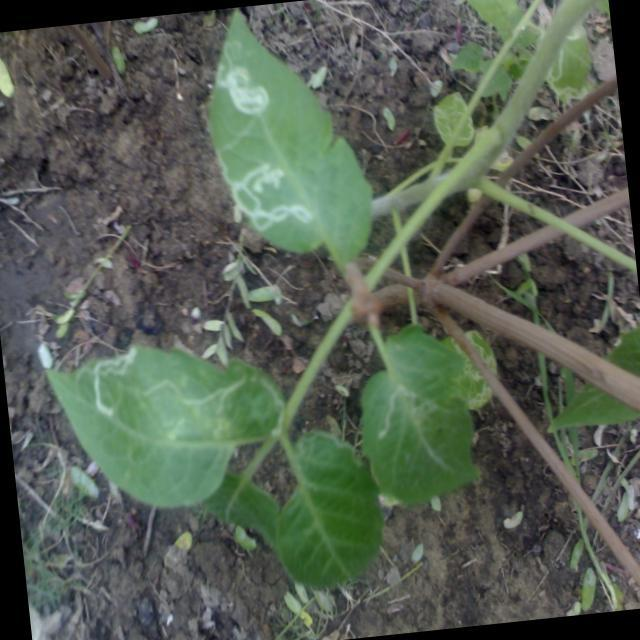Tomato target spot leaf: (206, 6, 375, 270), (39, 346, 286, 510), (359, 327, 489, 510)
